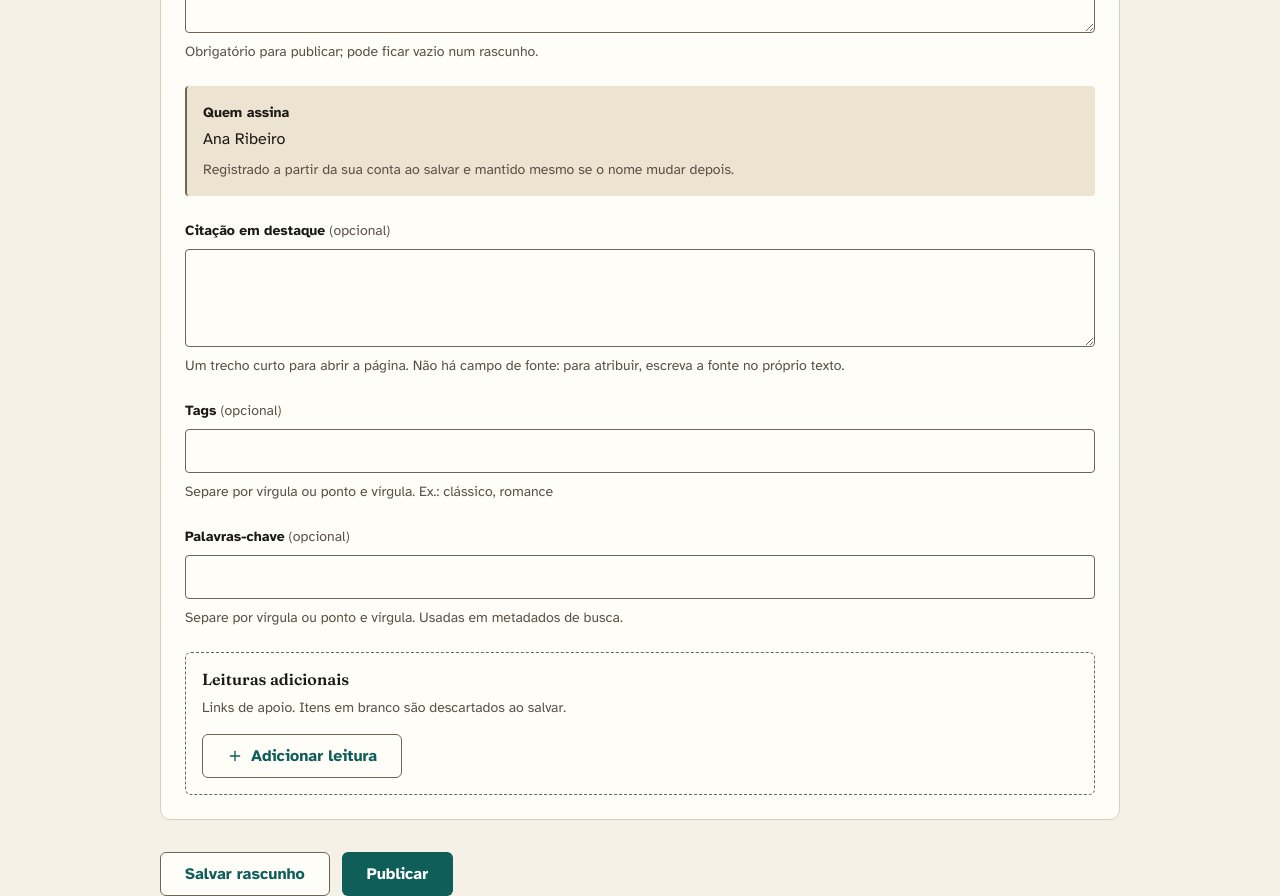
Test: leituras adicionais: adicionar, remover e o foco em cada transição › remover um item DO MEIO → foco no "Remover" que ocupou a posição
(page scrolled)
Click the button "Adicionar leitura": [302, 756] box [202,734,402,778]
(page scrolled)
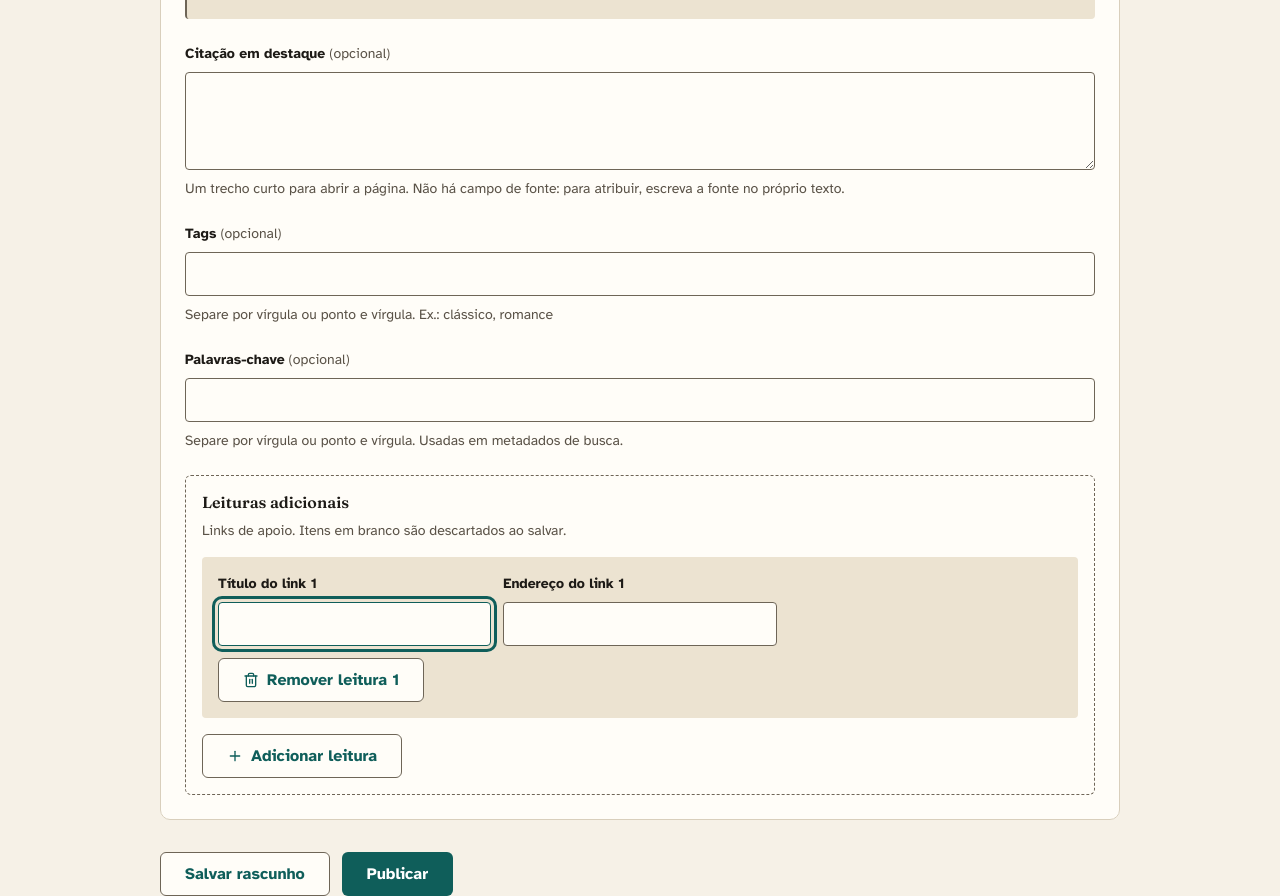
Click the button "Adicionar leitura": [302, 756] box [202,734,402,778]
(page scrolled)
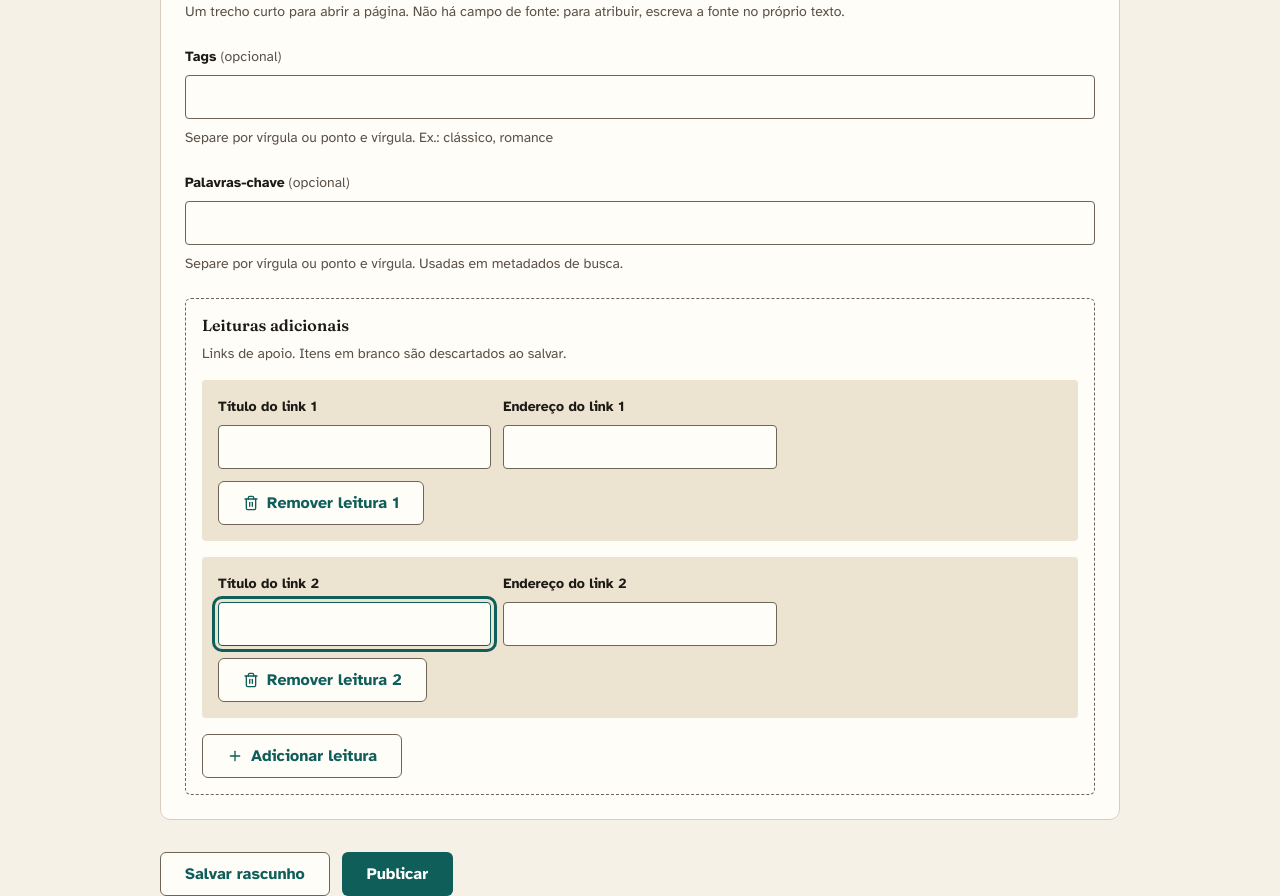
Click the button "Adicionar leitura": [302, 756] box [202,734,402,778]
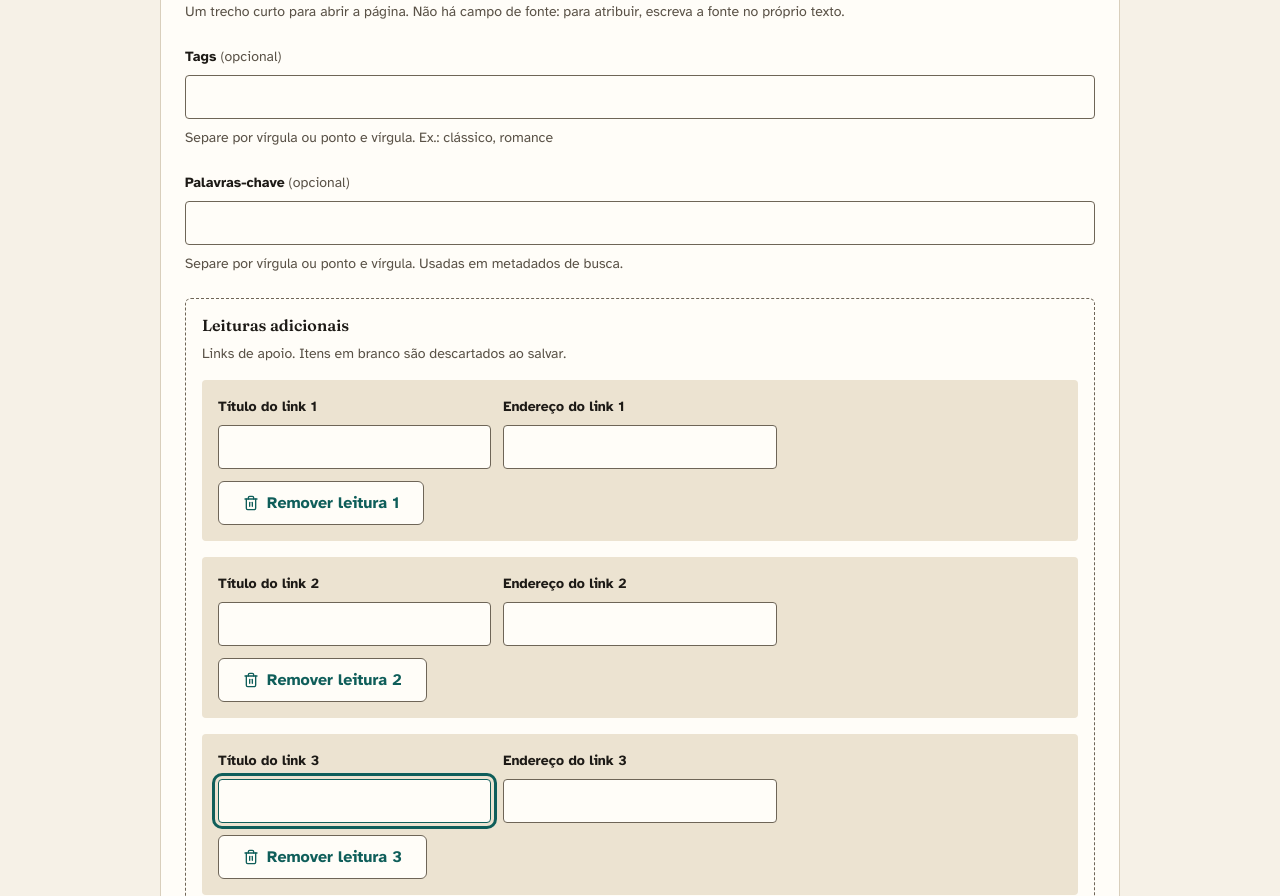
In the field labelled "Título do link 3": [355, 801] box [218,779,491,823], type "terceiro"
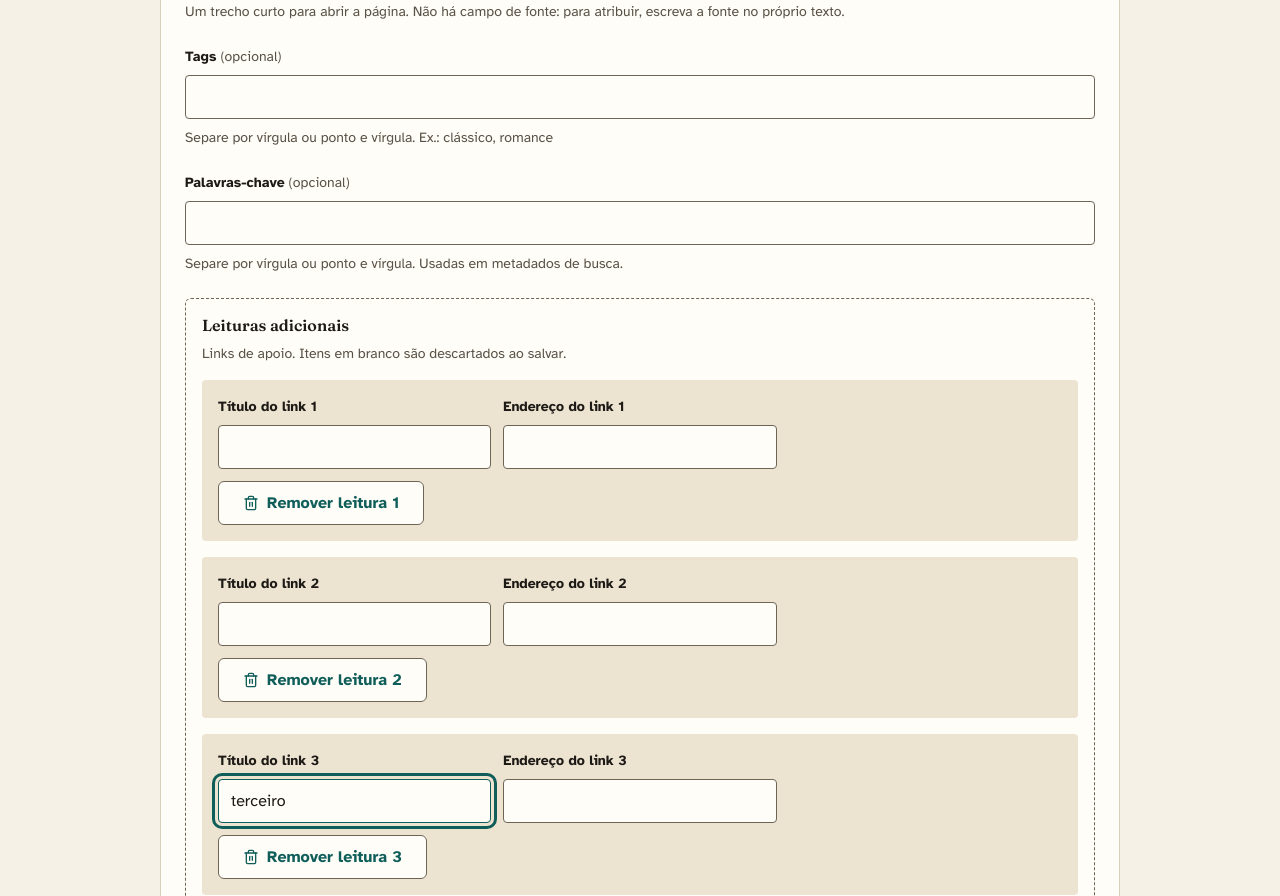
Click the button "Remover leitura 2": [322, 680] box [218,658,426,702]
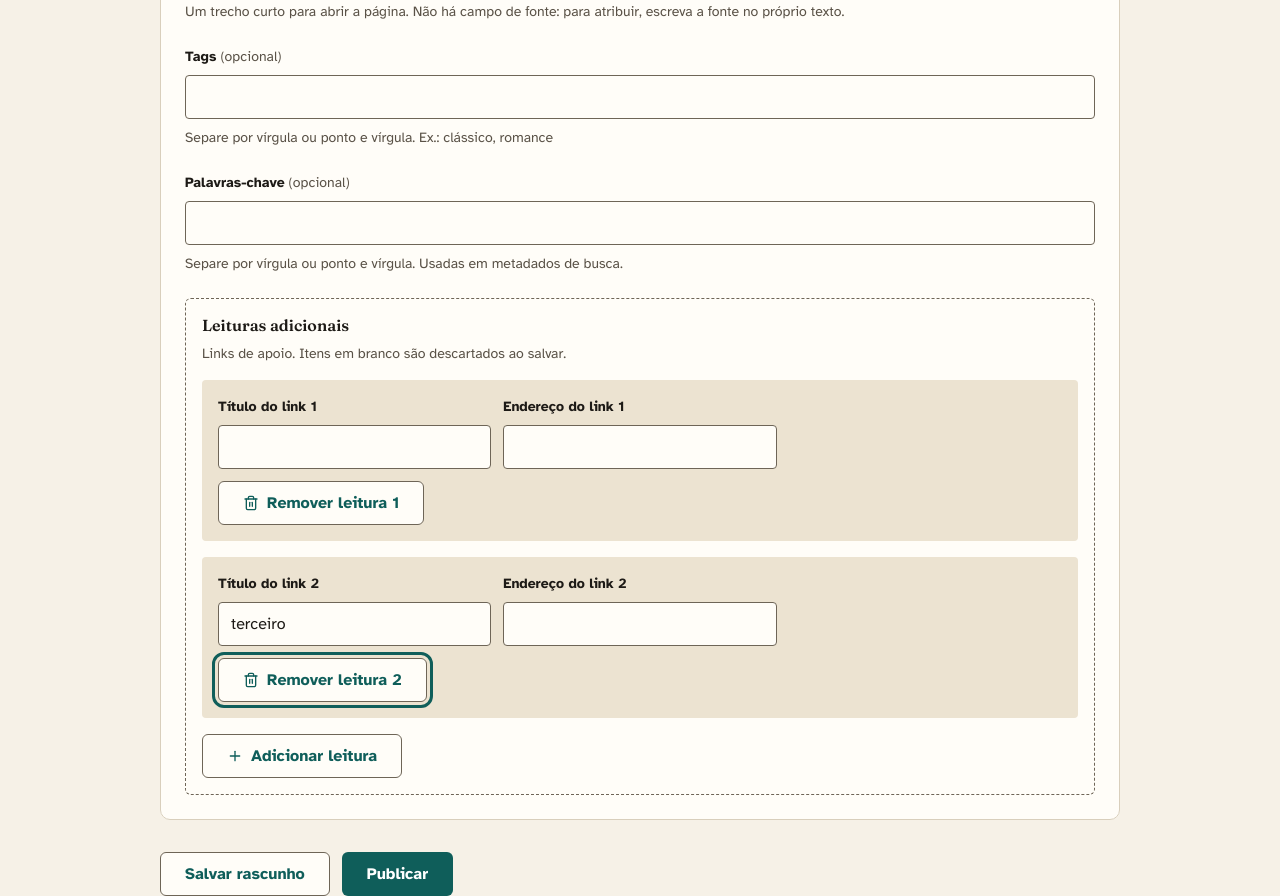
Expected: the button "Remover leitura 3" is gone
